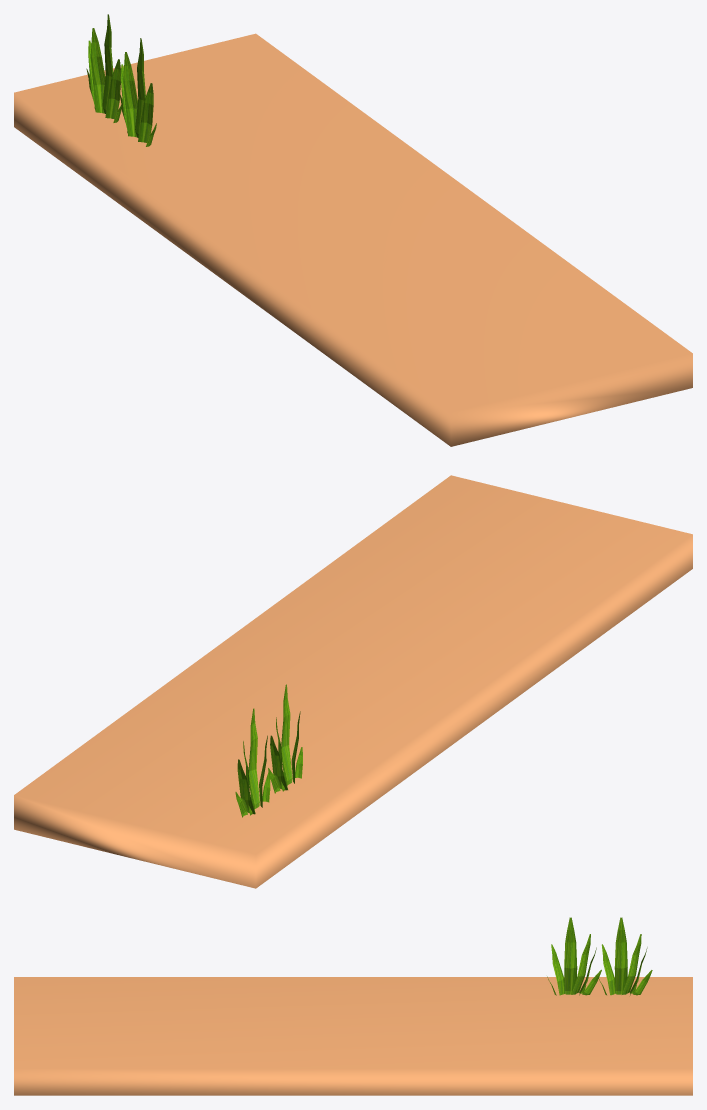
Rendered from trap_up.fbx.
3 views of the same model, one above another, from view 1: azimuth 30°, elevation 25°; view 2: azimuth 150°, elevation 25°; view 3: azimuth 270°, elevation 25° (orthographic). The views are drawn at different scales.
Parts seen in each view (by area): view 1: trap.up; view 2: trap.up; view 3: trap.up.
Part boxes in pixels (box(x1,y1,x2,y2)): trap.up: box(14, 14, 692, 446); trap.up: box(14, 475, 692, 888); trap.up: box(14, 917, 692, 1095).
Size of the model in its own units: 479 by 255 by 1499.
